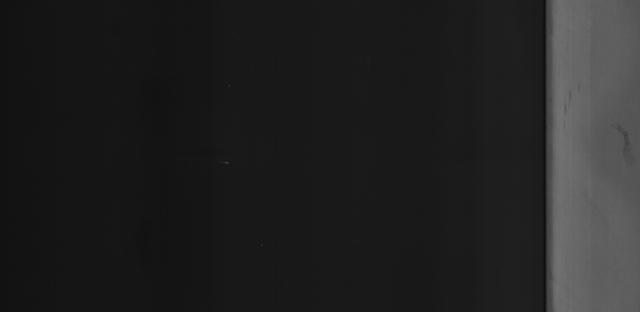water_spot: (605, 110, 640, 172)
